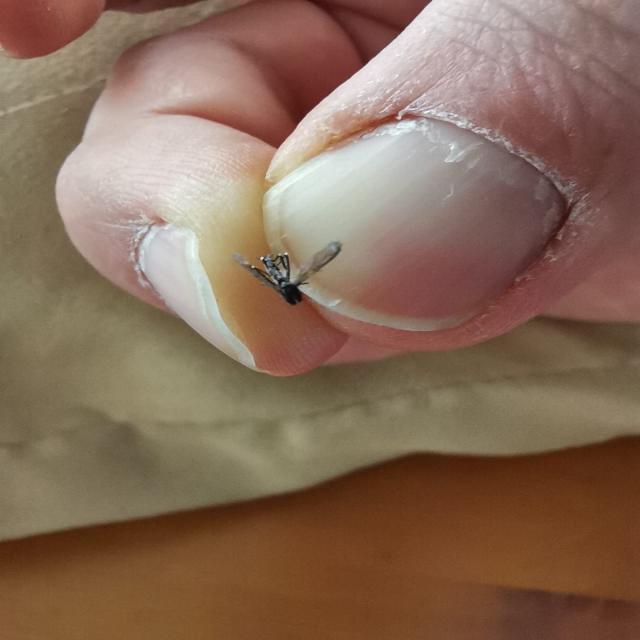albopictus: (231, 236, 347, 309)
